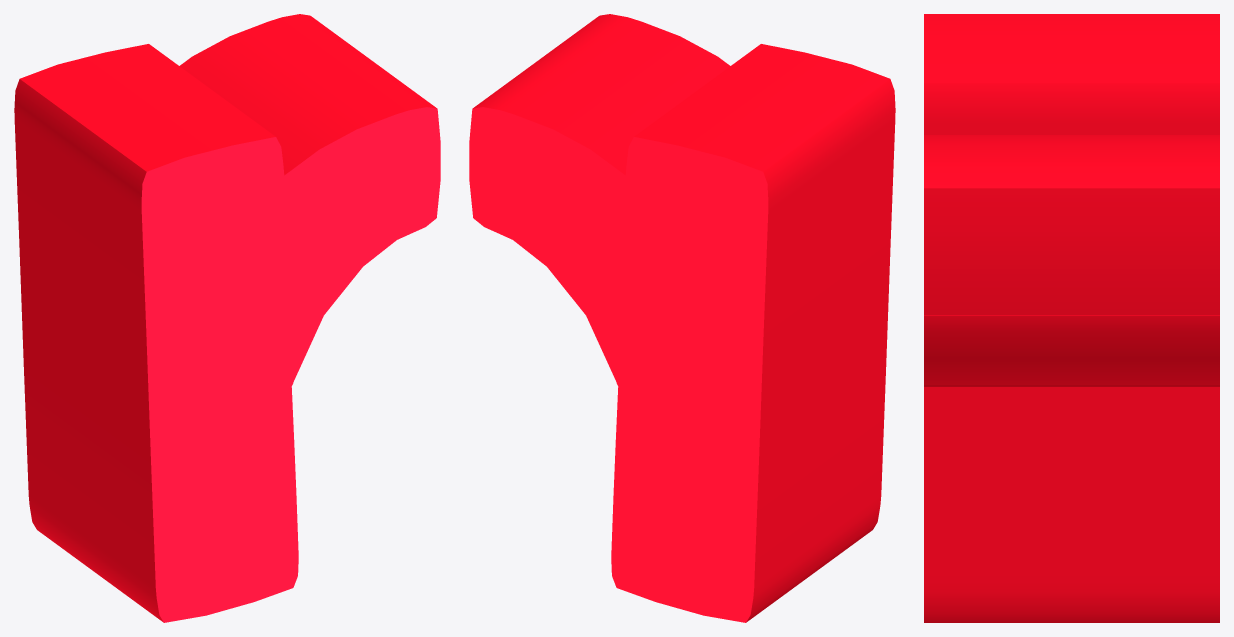
The model's file is R_Zyzol_Red.glb.
The picture shows the model from 3 angles, left to right: view 1: azimuth 30°, elevation 25°; view 2: azimuth 150°, elevation 25°; view 3: azimuth 270°, elevation 25°; orthographic projection. The views are drawn at different scales.
Parts seen in each view (by area): view 1: r_Zyzol_Red; view 2: r_Zyzol_Red; view 3: r_Zyzol_Red.
Part boxes in pixels (x1,y1,x2,y2): r_Zyzol_Red: (14,14,440,622); r_Zyzol_Red: (469,14,895,622); r_Zyzol_Red: (924,14,1219,622).
Size of what is drawn, in the model's own units: 0.0611 by 0.0906 by 0.045.
2 materials, 2 textured.
